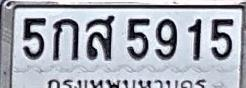1: (188, 18, 202, 60)
5: (22, 16, 46, 60), (210, 18, 234, 60), (127, 18, 150, 60)
9: (155, 18, 177, 60)
A01: (52, 18, 79, 60)
A40: (86, 15, 114, 60)
